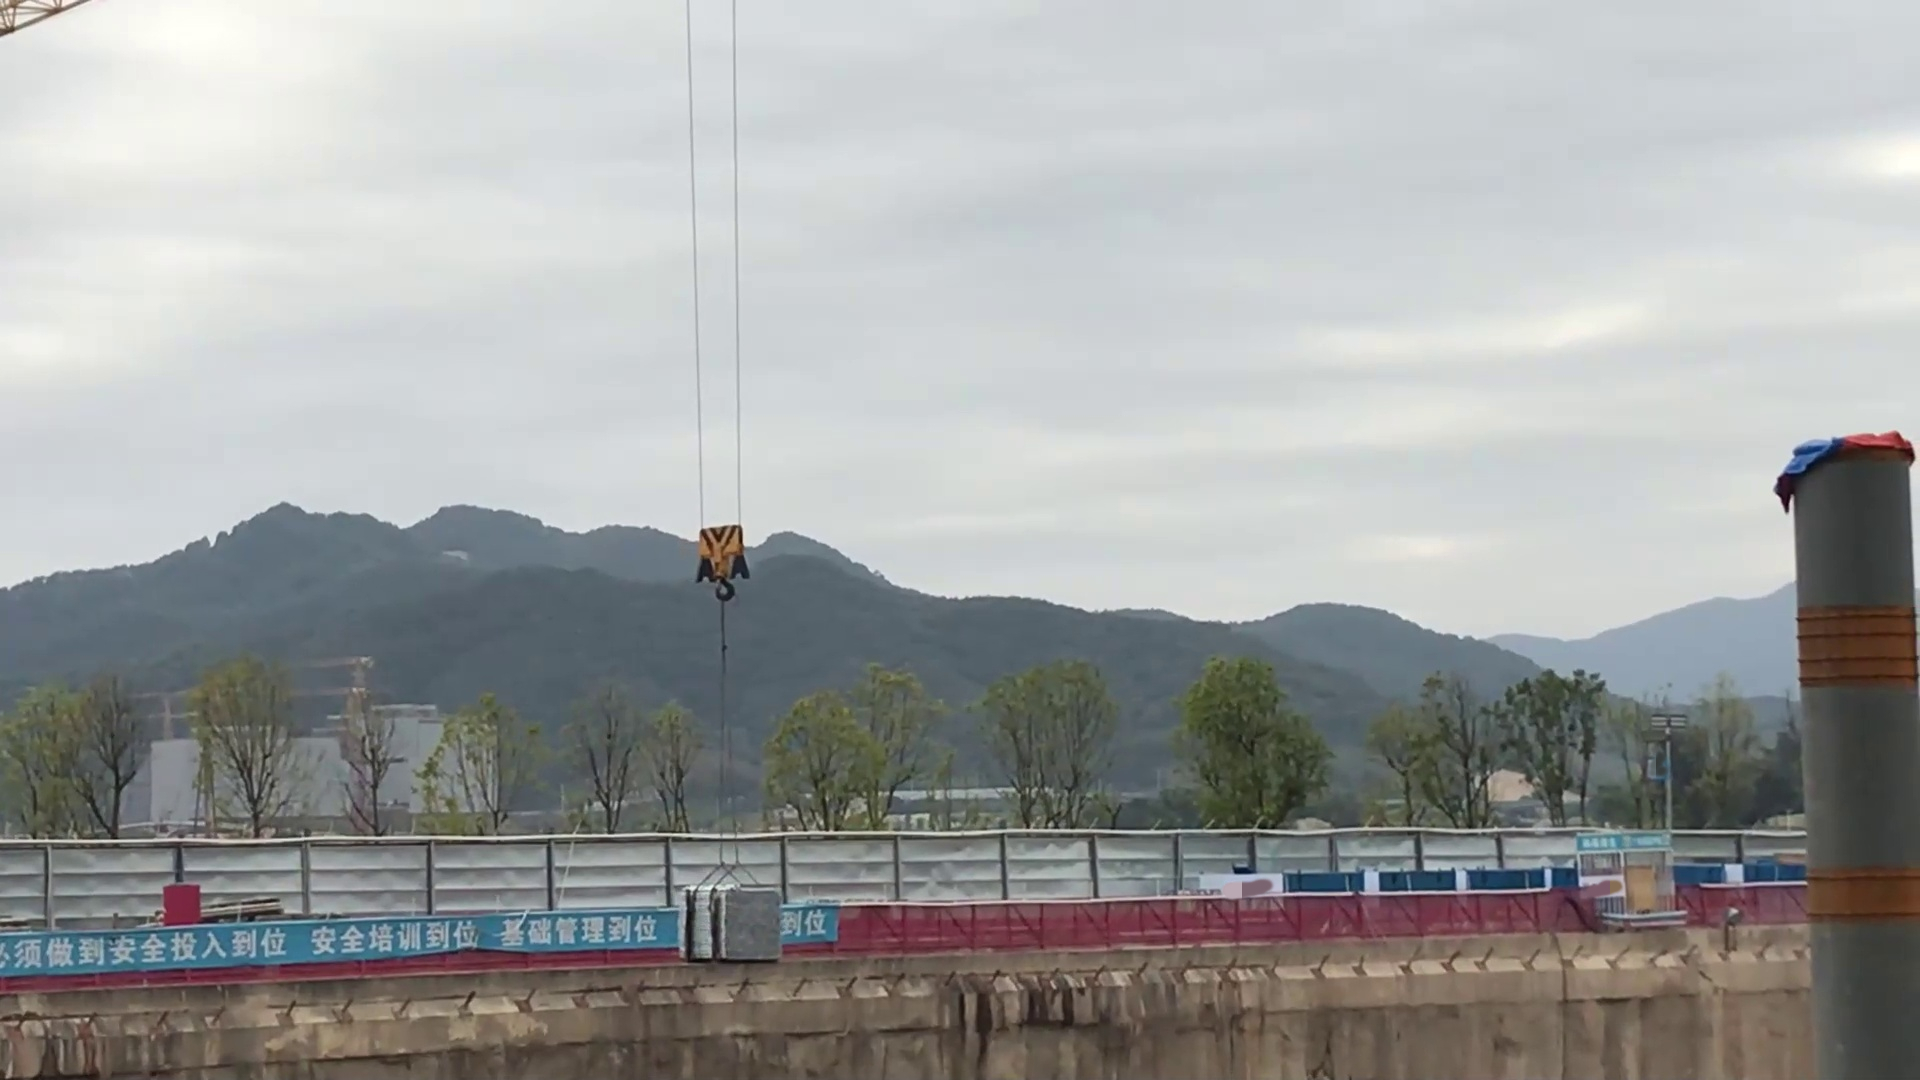fence: (1, 880, 1813, 990)
hook: (688, 514, 761, 608)
scaffold: (676, 880, 793, 963)
slogan: (3, 910, 833, 967)
